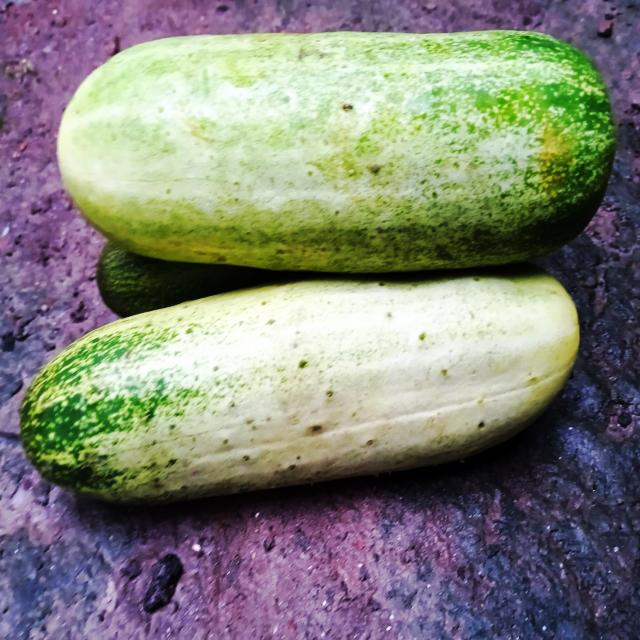Fresh-Cucumber: (55, 26, 619, 280), (19, 266, 584, 505)
